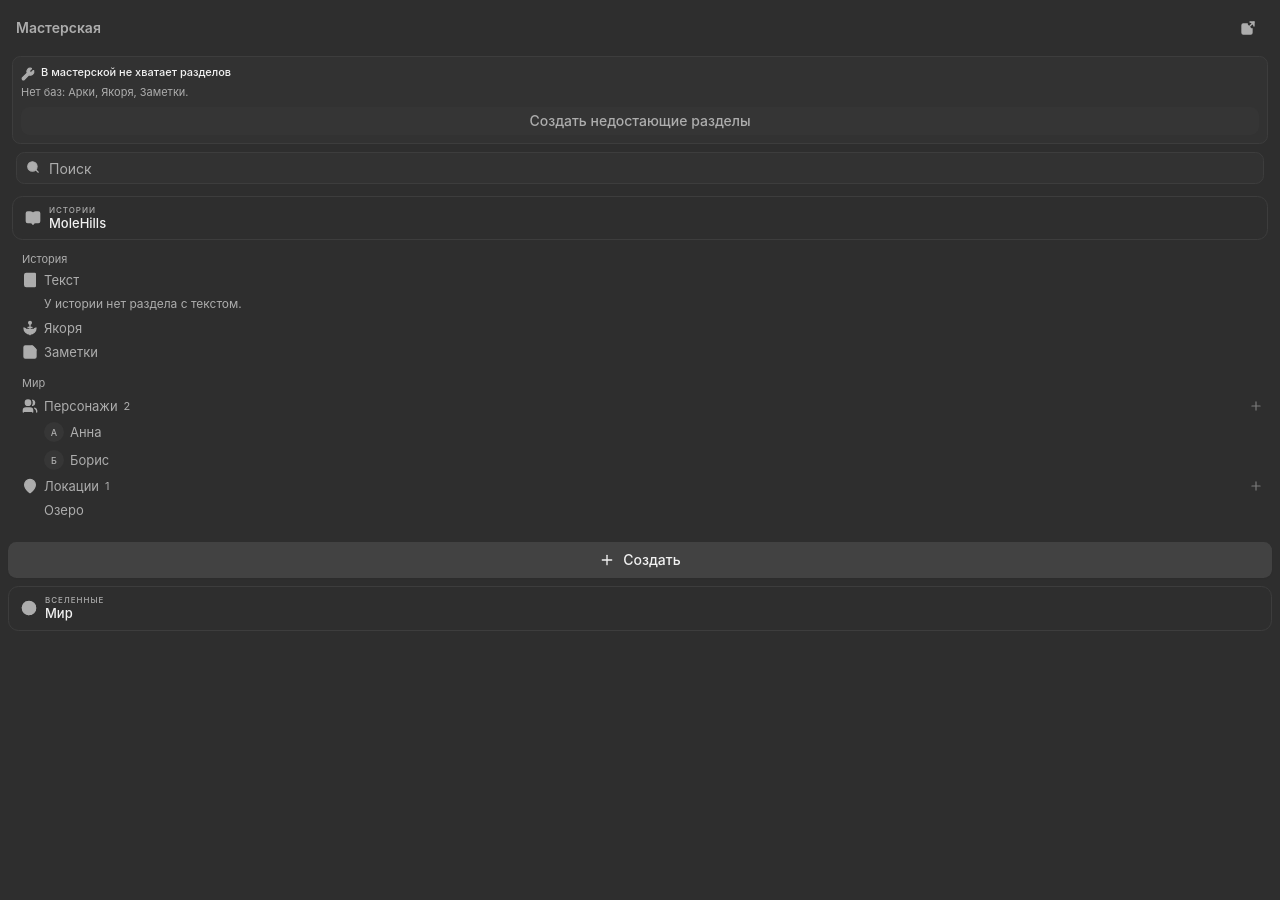
Scenario: CreativePanel: belonging to stories and universes › shows a story's own pages and those its text names, and no other story's
Expected: the button "А Анна" is shown, [8,418,1272,446]
Click the dropdown named "История". click: click(72, 210)
box: [13,197,1267,239]
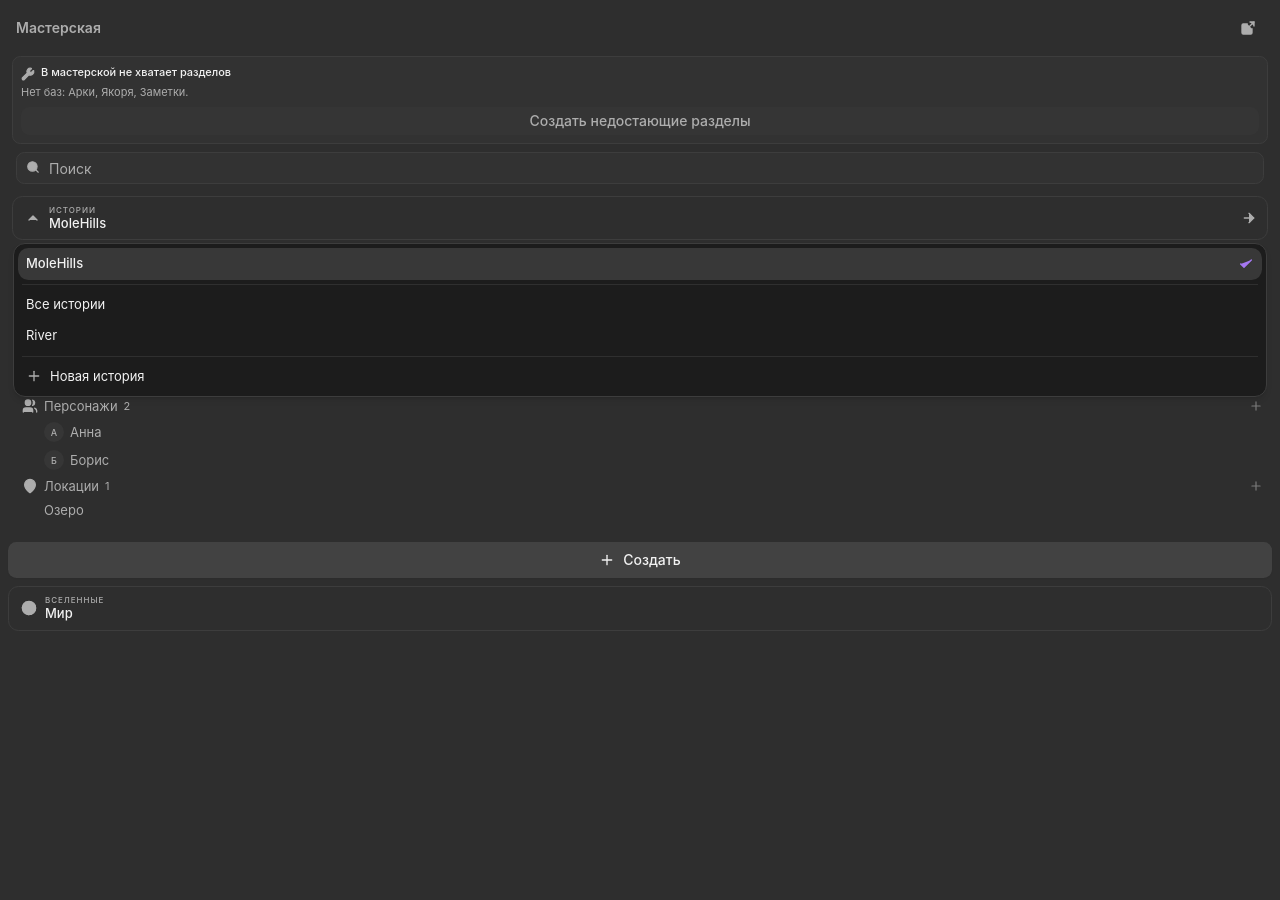
Click the option "River". click: click(42, 335)
box: [18,320,1262,352]
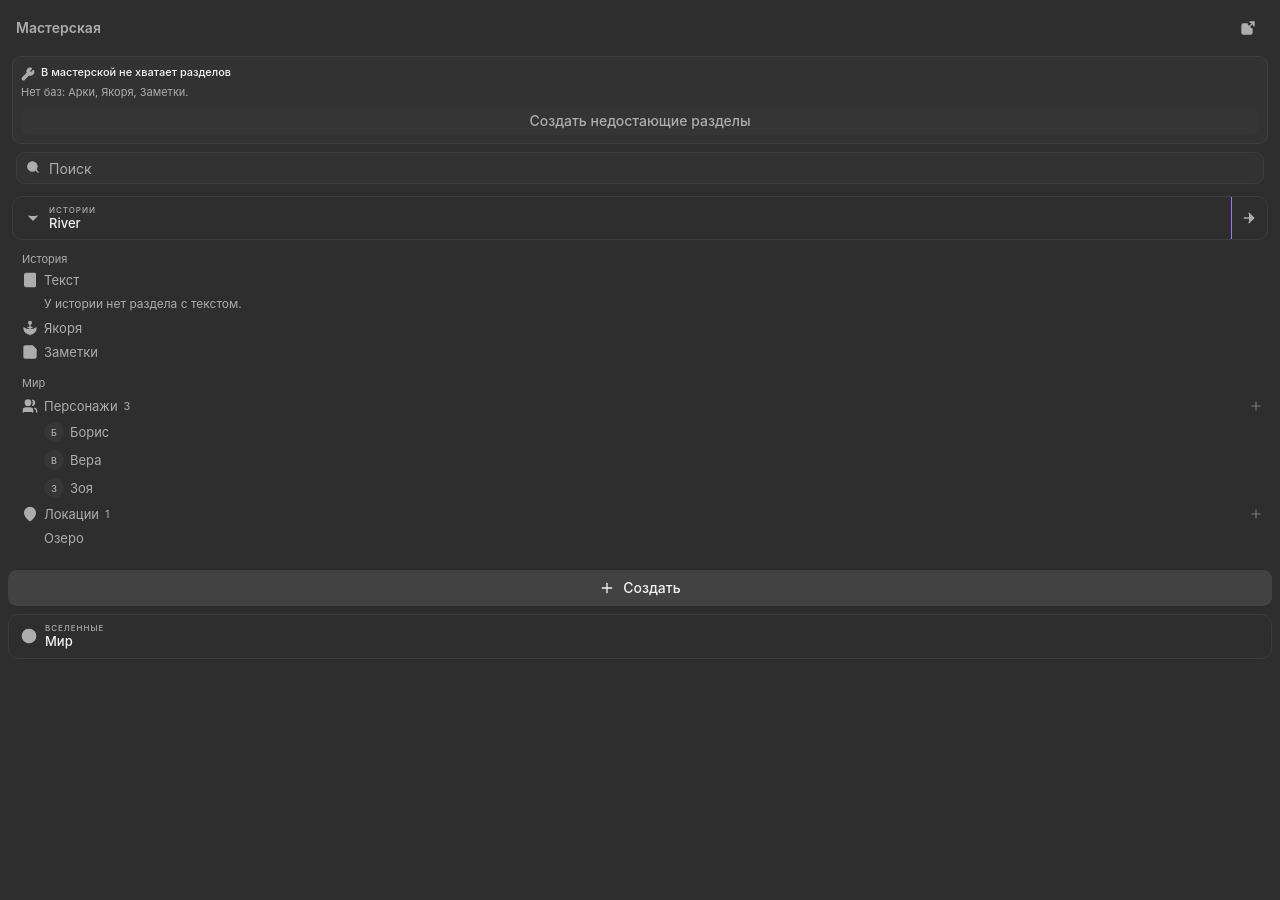
Now the button "В Вера" is shown, box [8,446,1272,474]
